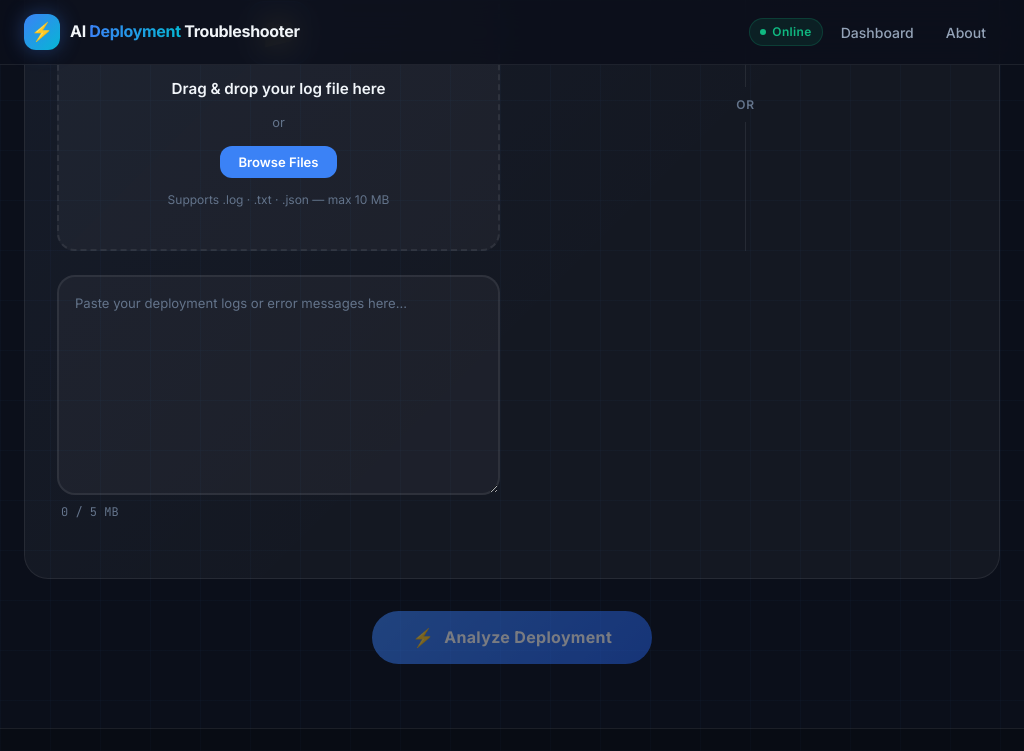
Test: App - text input › clears textarea when Clear button is clicked
(page scrolled)
Type "some log" into the text box named "deployment log content" at (278, 385), box [57,275,500,495]
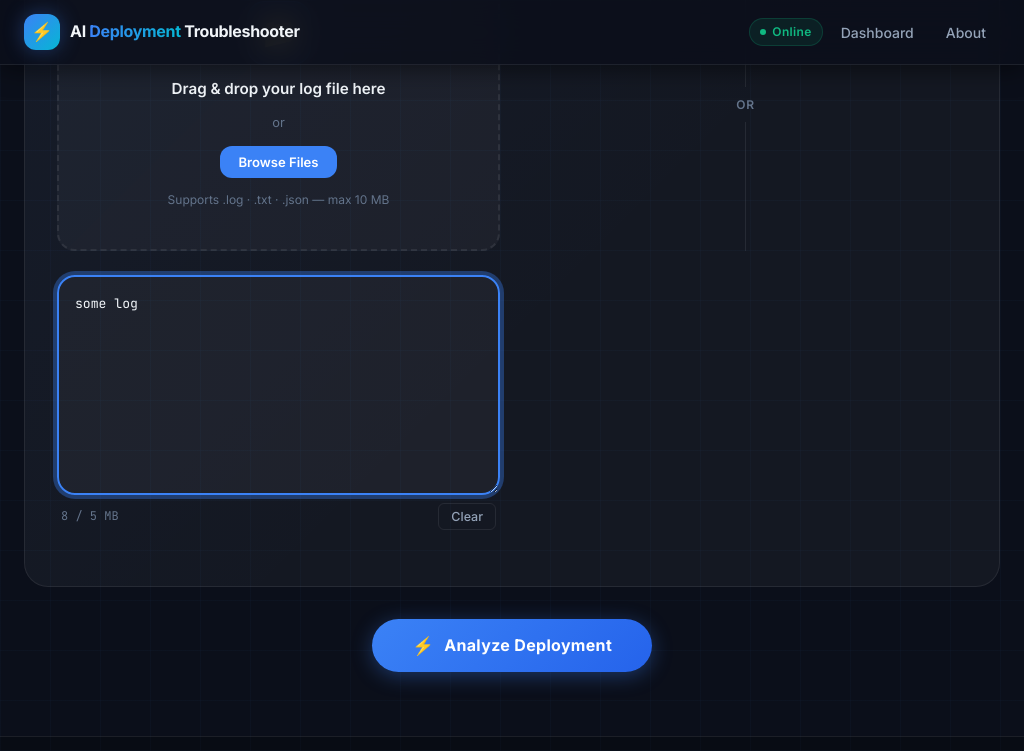
Click the button with aria-label "clear pasted logs" at (467, 516), box [438,503,496,530]
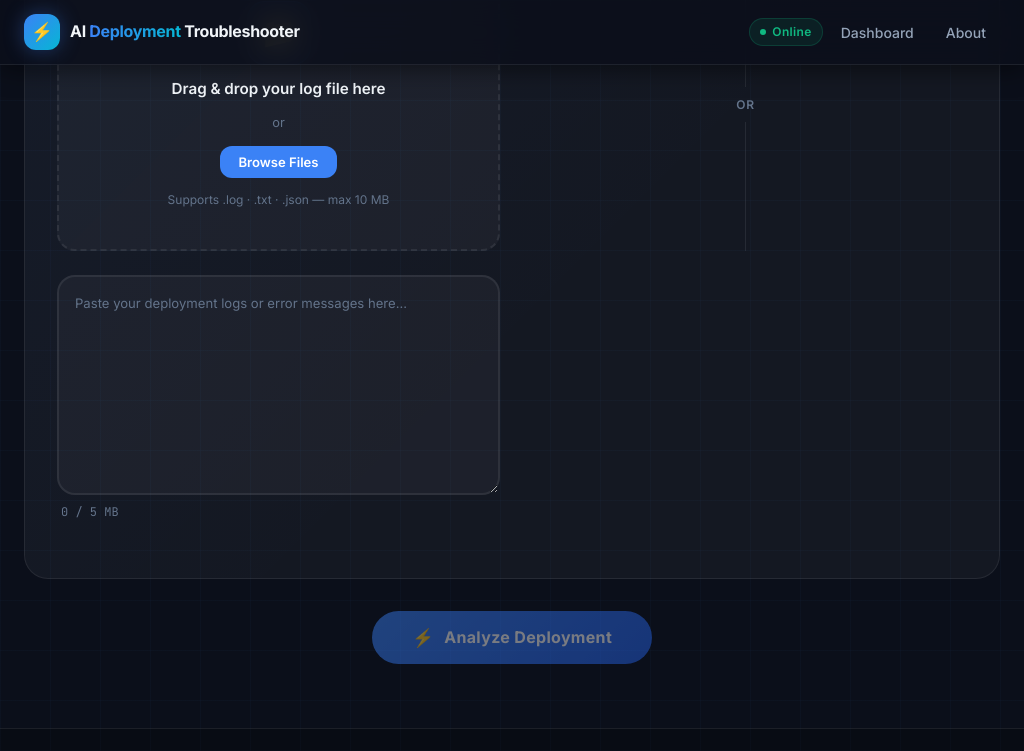
Check: the text box named "deployment log content" is empty, box [57,275,500,495]
